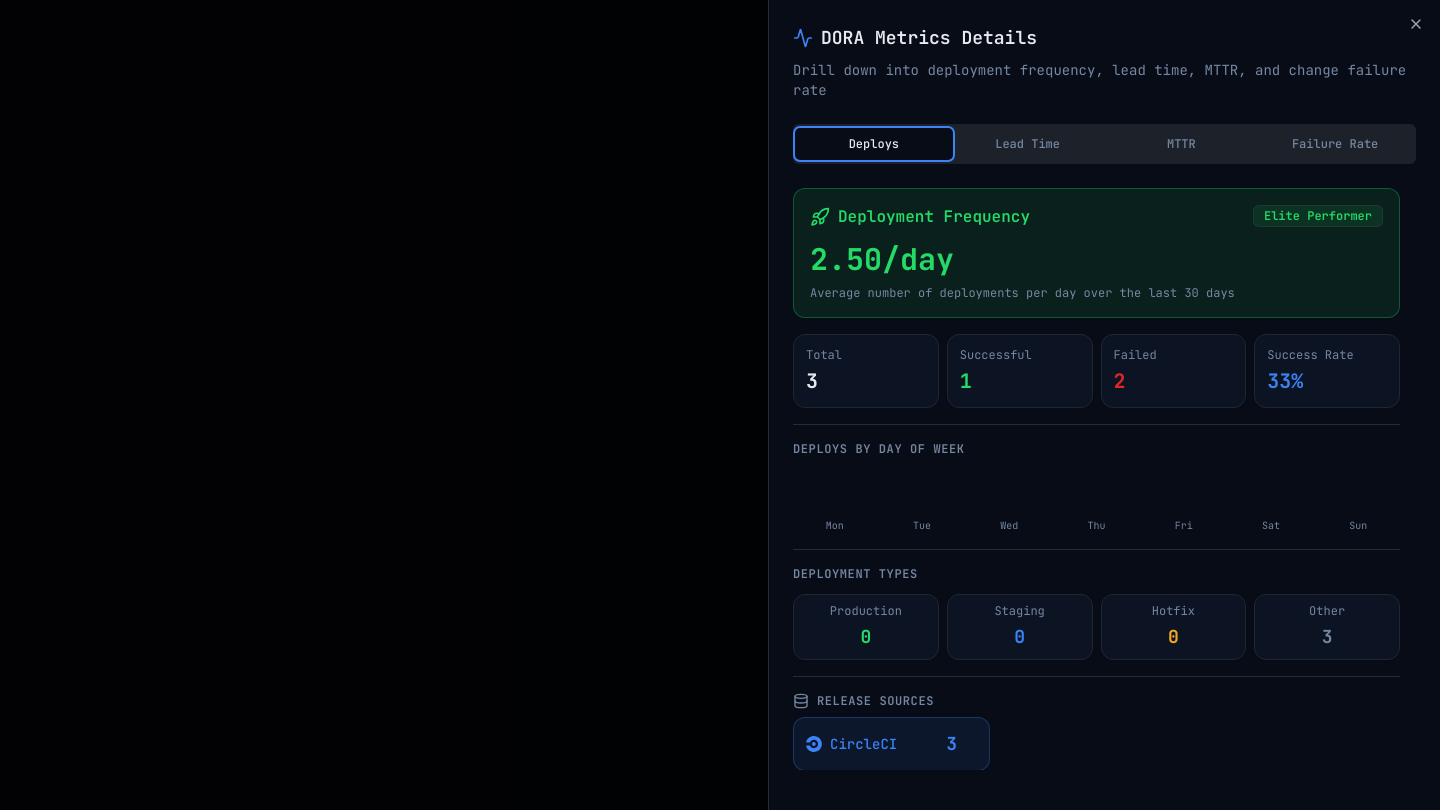
it: DeploymentFrequencyDetail - Filtering › Status filtering › should filter releases when clicking Failed card
Click the button "Failed 2": (1173,371) [1100,334,1246,408]
(page scrolled)
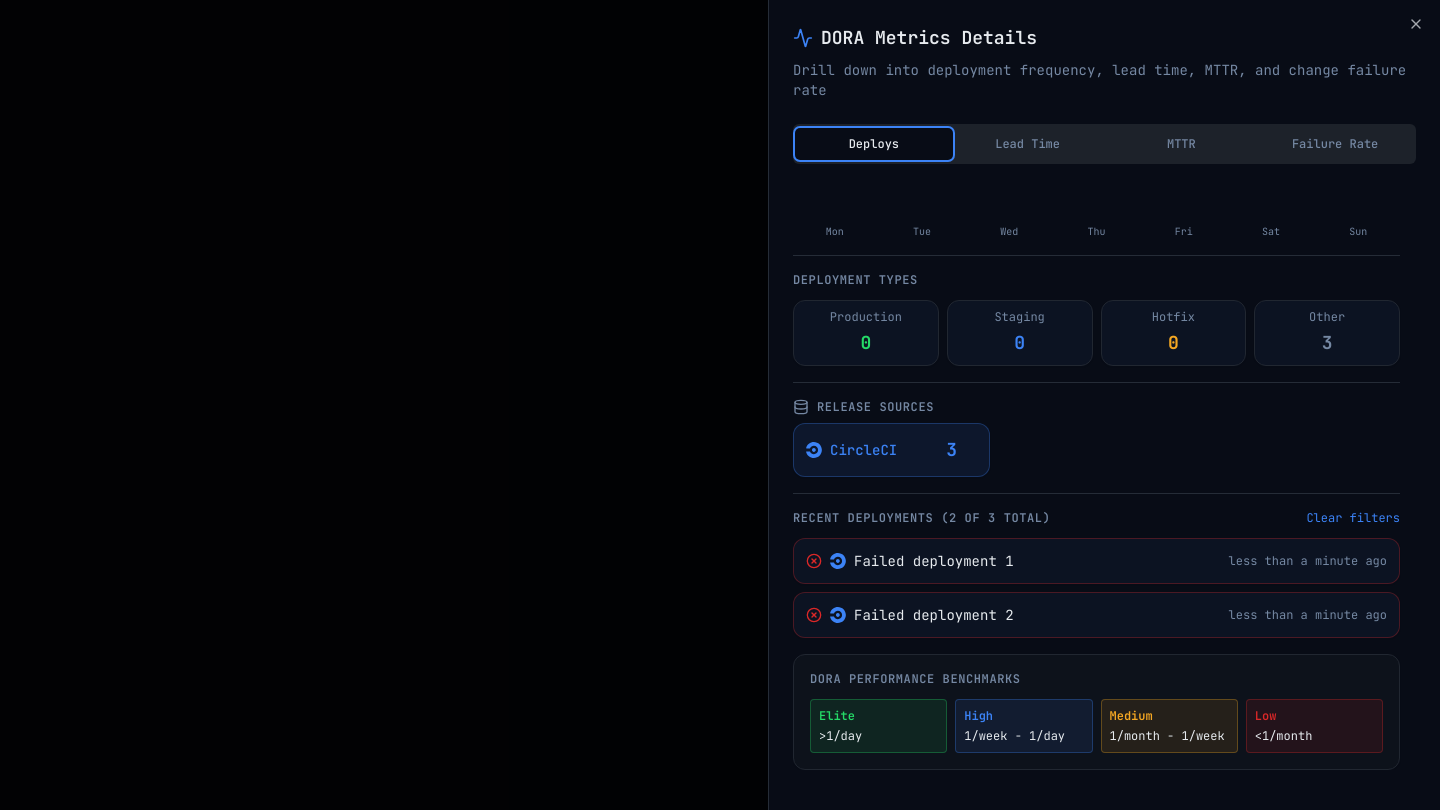
Expected: the text "Failed deployment 1" is shown, [854,551,1014,571]
Expected: the text "Failed deployment 2" is shown, [854,605,1014,625]
